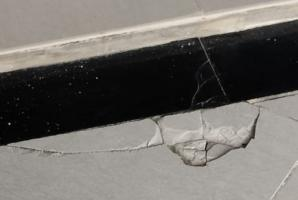Crack: (150, 94, 266, 174), (5, 141, 168, 158)
